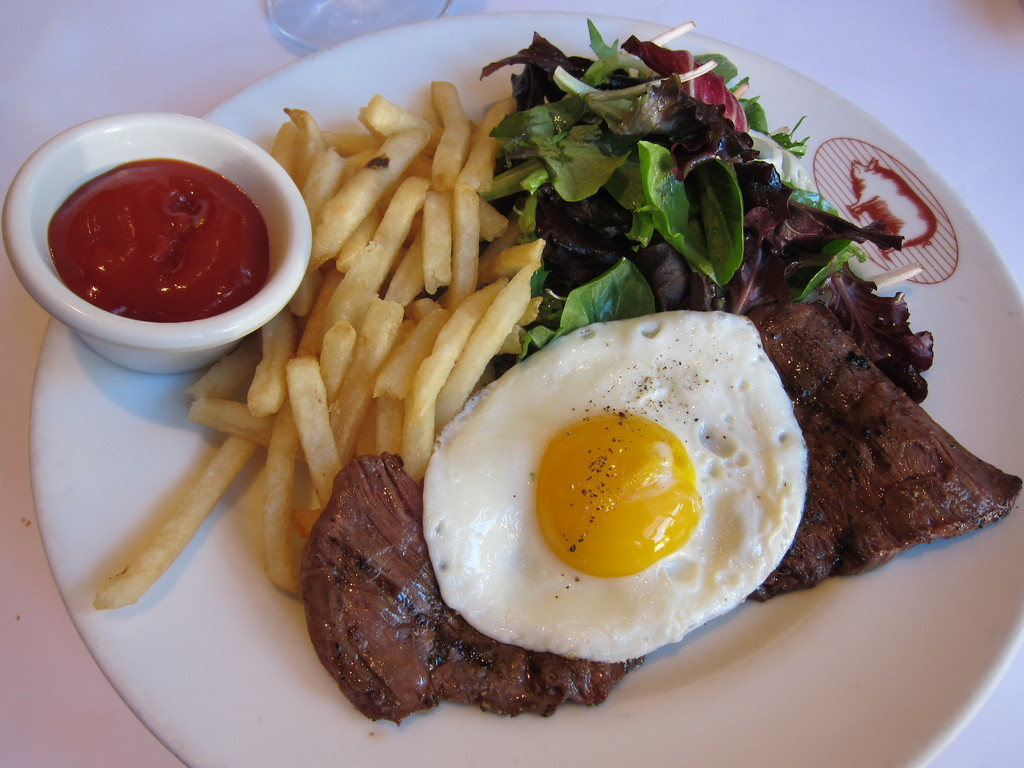French fries: (145, 69, 565, 629)
